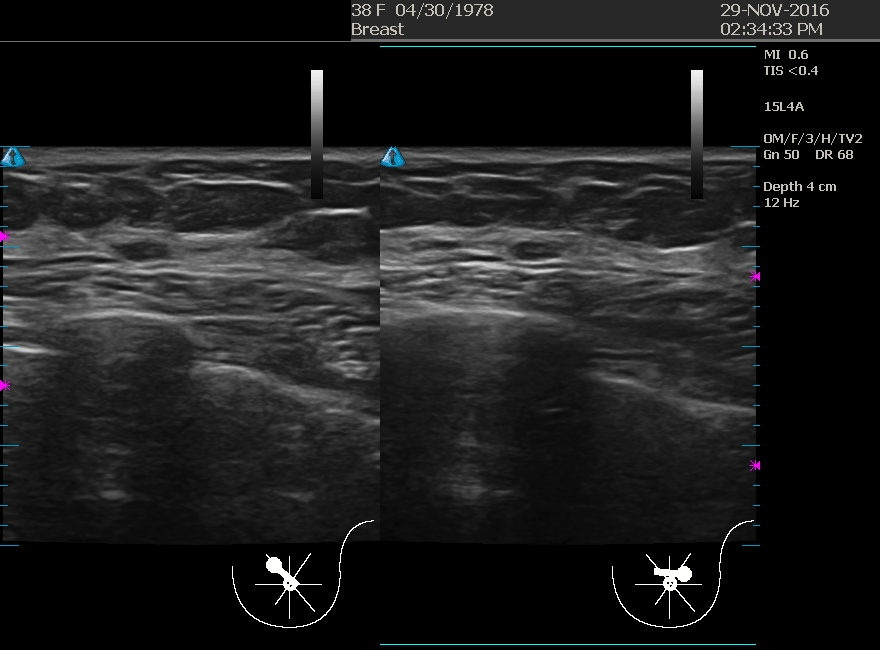BIRADS_2: (41, 169, 241, 369), (437, 227, 637, 427)
